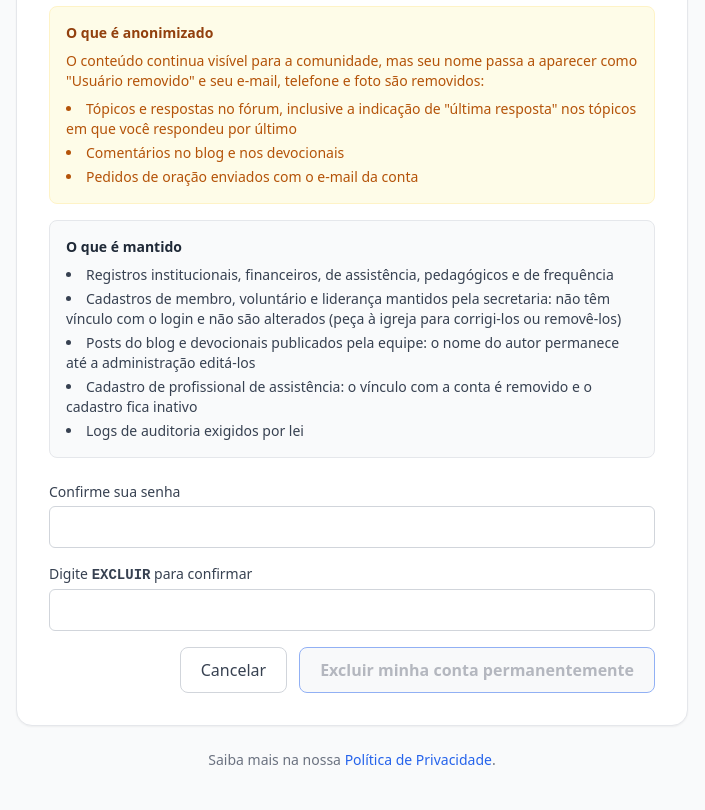
Test: DeleteAccountPage › asks to confirm identity again when the server refuses an old login
(page scrolled)
Type "secret123" into the password field labelled "Confirme sua senha" at (352, 527), box top-left (49, 506), bottom-right (655, 548)
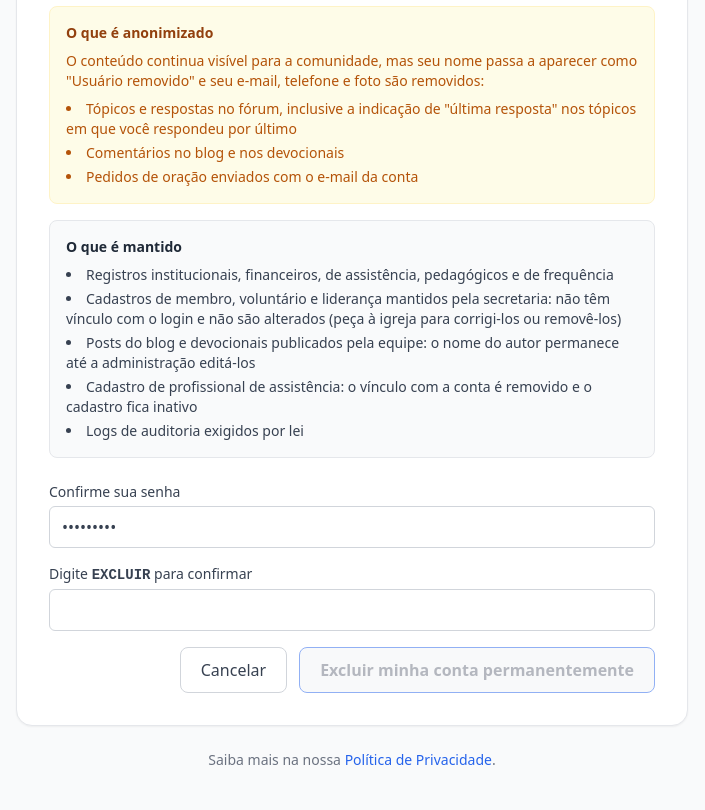
Type "EXCLUIR" into the field labelled "Digite EXCLUIR para confirmar" at (352, 610), box top-left (49, 589), bottom-right (655, 631)
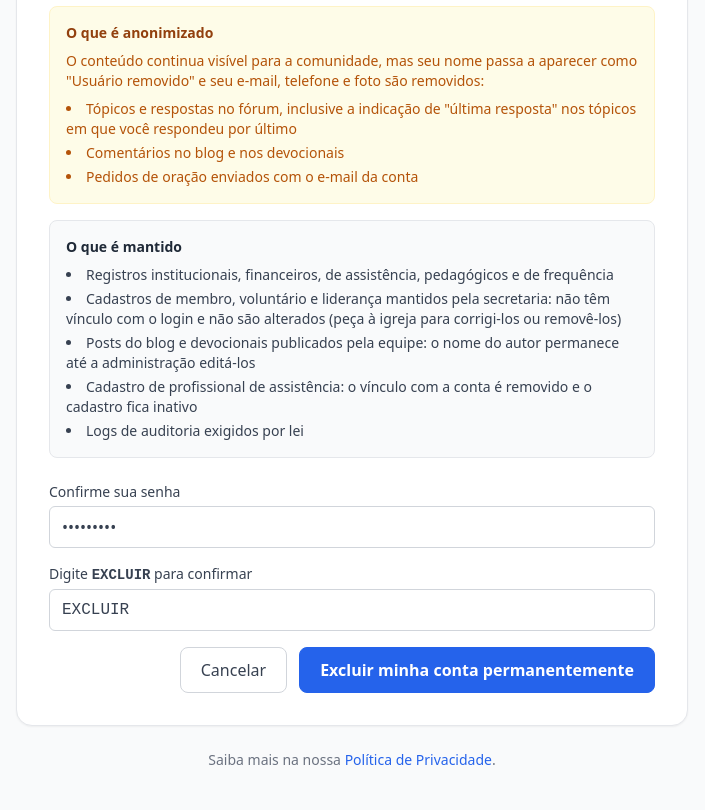
Click the button "Excluir minha conta permanentemente" at (477, 670), box top-left (299, 647), bottom-right (655, 693)
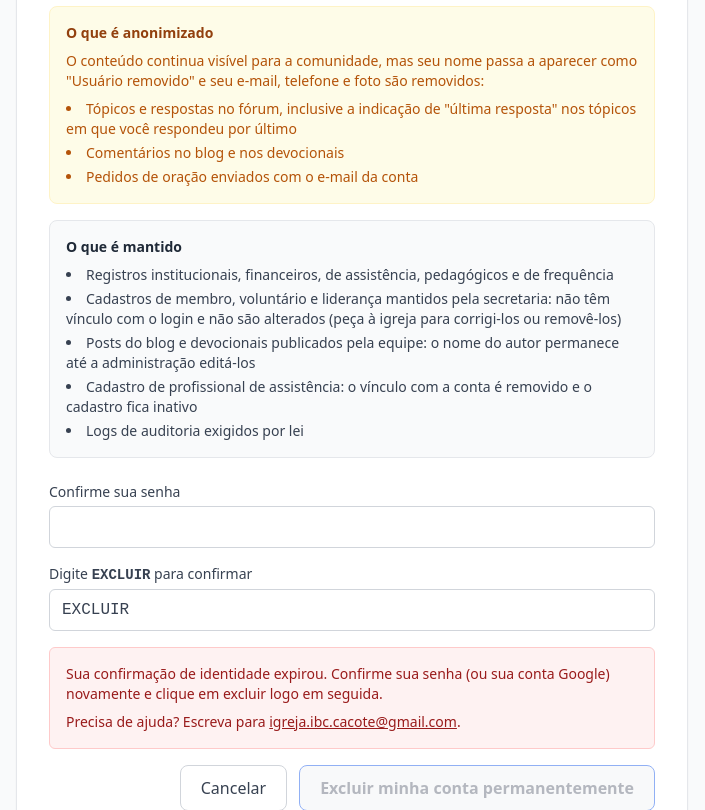
Check: the text "Sua confirmação de identidade expirou" is shown, box top-left (66, 664), bottom-right (610, 703)
Check: the password field labelled "Confirme sua senha" is empty, box top-left (49, 506), bottom-right (655, 548)
